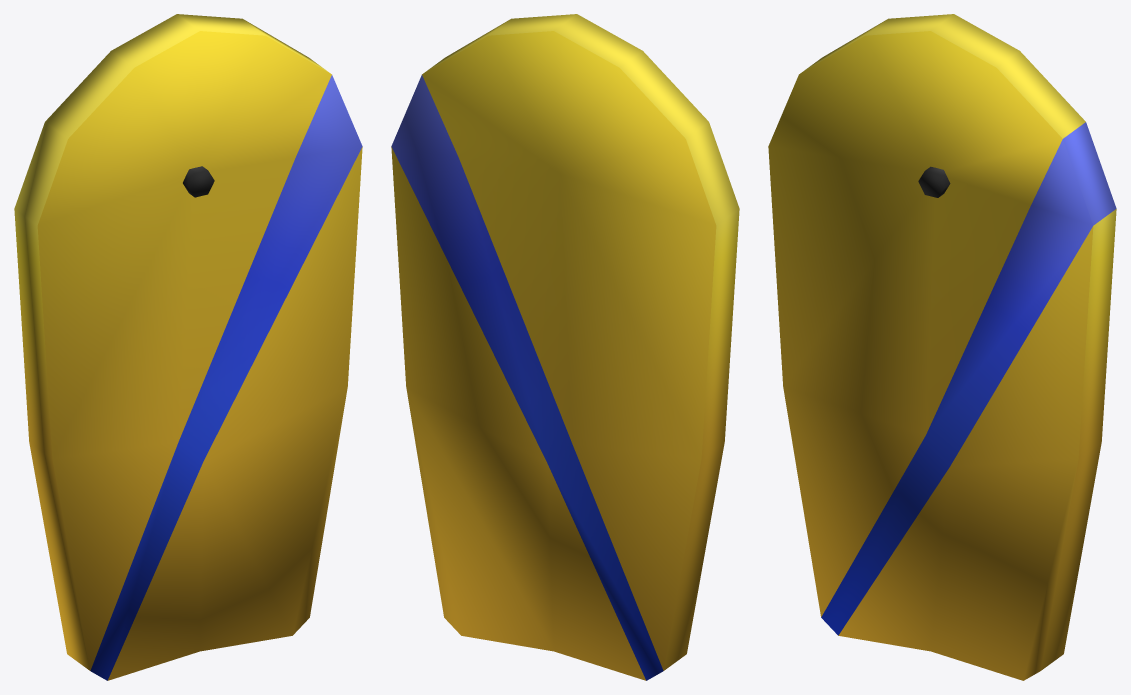
Rendered from Board_01.fbx.
The picture shows the model from 3 angles, left to right: view 1: azimuth 30°, elevation 25°; view 2: azimuth 150°, elevation 25°; view 3: azimuth 330°, elevation 25°; orthographic projection.
Parts seen in each view (by area): view 1: Board_01; view 2: Board_01; view 3: Board_01.
Part boxes in pixels (x1,y1,x2,y2): Board_01: (14, 14, 362, 680); Board_01: (391, 14, 739, 680); Board_01: (768, 14, 1116, 680).
Bounding box in the file's own units: 0.1835 × 0.3385 × 0.0231.
